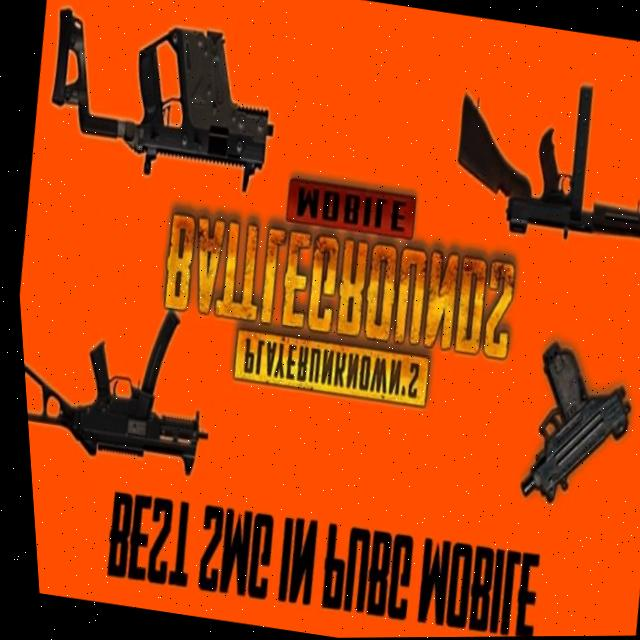firearm: (36, 7, 290, 197), (15, 286, 222, 480), (441, 68, 640, 257), (504, 337, 639, 515)
